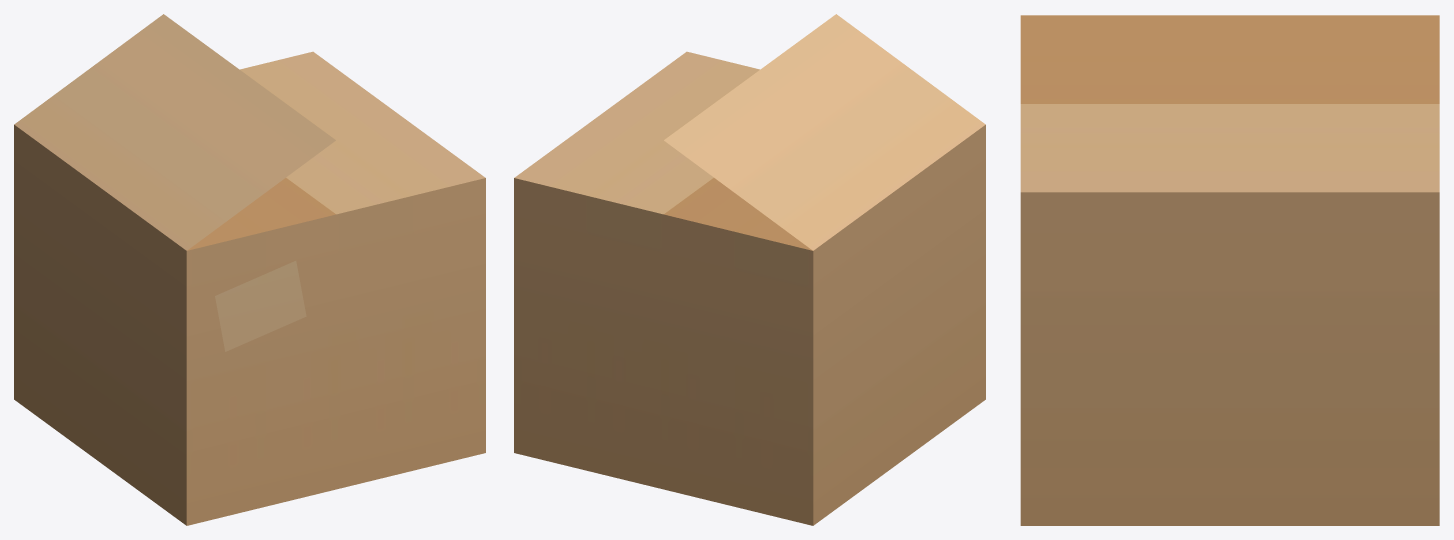
3 renders of one model, left to right at view 1: azimuth 30°, elevation 25°; view 2: azimuth 150°, elevation 25°; view 3: azimuth 270°, elevation 25°, orthographic. The views are drawn at different scales.
Visible parts, largest first — view 1: box_B; view 2: box_B; view 3: box_B.
Part boxes in pixels (bbox=[...]): box_B: bbox=[14, 14, 485, 525]; box_B: bbox=[514, 14, 985, 525]; box_B: bbox=[1020, 15, 1439, 525].
Bounding box in the file's own units: 0.1521 × 0.1696 × 0.1544.
Materials: 1 (1 with a texture image).
